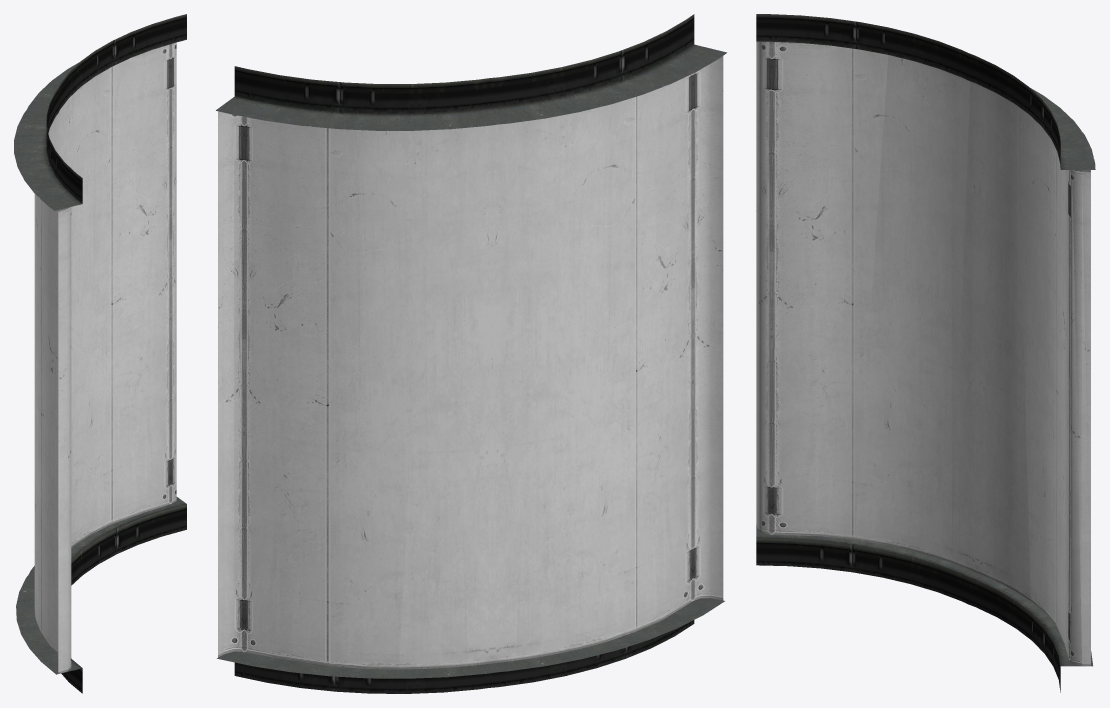
The model's file is Neon_Wall_6x4_Bend_S_B.FBX.
The picture shows the model from 3 angles, left to right: view 1: azimuth 30°, elevation 25°; view 2: azimuth 150°, elevation 25°; view 3: azimuth 270°, elevation 25°; orthographic projection. The views are drawn at different scales.
Parts seen in each view (by area): view 1: Neon_Wall_6x4_Bend_S_B; view 2: Neon_Wall_6x4_Bend_S_B; view 3: Neon_Wall_6x4_Bend_S_B.
Boxes of the visible parts, left/top/right/bottom form: Neon_Wall_6x4_Bend_S_B: left=14, top=14, right=186, bottom=693; Neon_Wall_6x4_Bend_S_B: left=216, top=14, right=726, bottom=693; Neon_Wall_6x4_Bend_S_B: left=756, top=14, right=1095, bottom=692.
Bounding box in the file's own units: 2.23 × 4 × 2.23.
